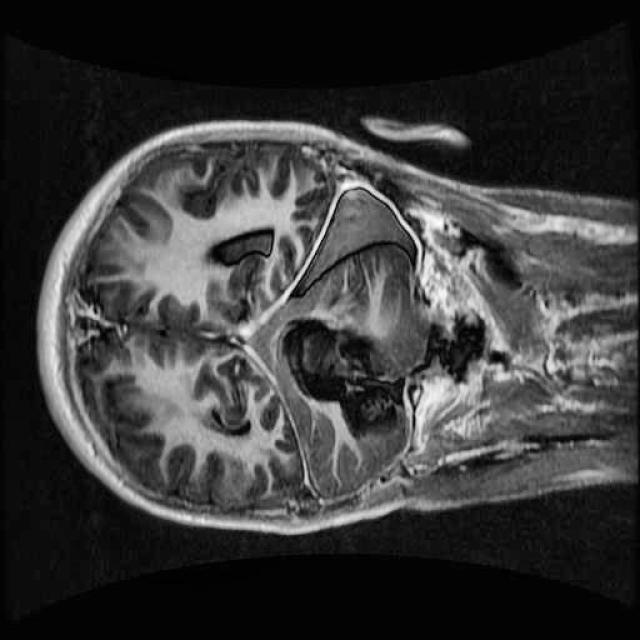Tumor: (266, 287, 422, 467)
